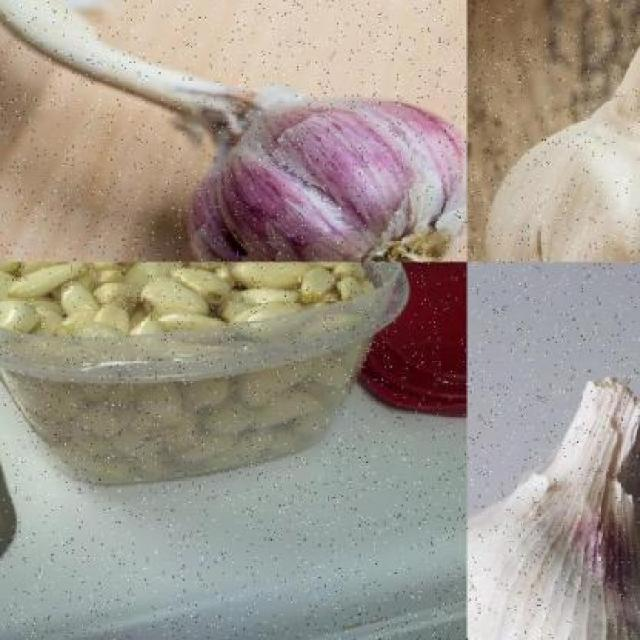garlic: (0, 262, 377, 470), (183, 83, 466, 262), (466, 376, 640, 638), (476, 0, 638, 262)
